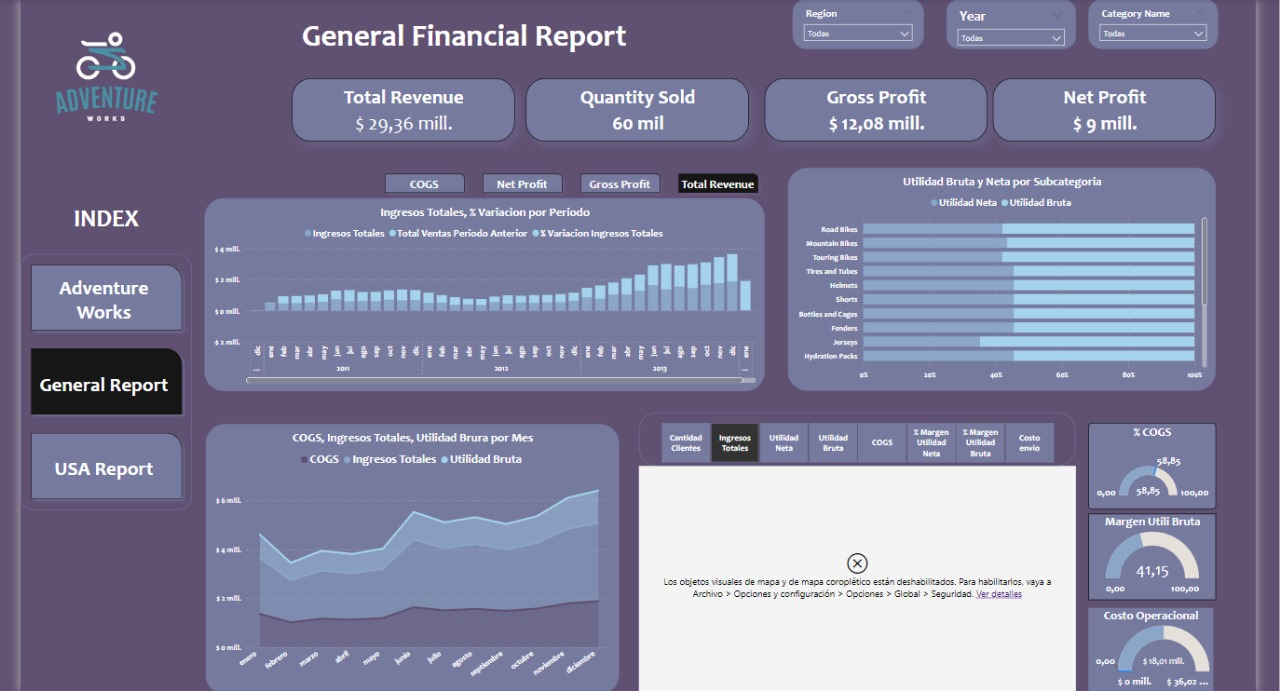

The page's visual inventory and layout, read from the dashboard file:
{"tool":"powerbi","page":{"name":"General Report","canvas":[1920,1080],"ordinal":1},"visuals":[{"type":"card","title":"Total Revenue","fields":{"Values":["*Medidas.Ingresos Totales"]},"box":[421.9,123.8,346.1,98.5],"z":0},{"type":"card","title":"Quantity Sold","fields":{"Values":["*Medidas.Cantidad Vendida"]},"box":[785.7,123.8,346.1,98.5],"z":1000},{"type":"card","title":"Gross Profit","fields":{"Values":["*Medidas.Utilidad Bruta"]},"box":[1157.1,123.8,346.1,98.5],"z":2000},{"type":"card","title":"Net Profit","fields":{"Values":["*Medidas.Utilidad Neta"]},"box":[1510.7,123.8,346.1,98.5],"z":3000},{"type":"pageNavigator","box":[0,395.4,265.7,397.6],"z":4000},{"type":"hundredPercentStackedBarChart","title":"Utilidad Bruta y Neta por Subcategoria","fields":{"Category":["DimProduct.EnglishProductSubcategoryName","DimProduct.EnglishProductCategoryName"],"Y":["*Medidas.Utilidad Neta","*Medidas.Utilidad Bruta"]},"box":[1192.4,262.7,664.4,346.1],"z":8000},{"type":"stackedAreaChart","title":"COGS, Ingresos Totales, Utilidad Brura por Mes","fields":{"Y":["*Medidas.COGS","*Medidas.Ingresos Totales","*Medidas.Utilidad Bruta"],"Category":["FactInternetSales.DueDate.Variación.Jerarquía de fechas.Mes"]},"box":[288,660,642,420],"z":9000},{"type":"map","title":"Cantidad Clientes por Pais","fields":{"Size":["*Medidas.Ingresos Totales"],"Category":["DimCustomer.CountryRegionCode"]},"box":[961.2,725.9,678.8,354.3],"z":10000},{"type":"gauge","title":"    %   COGS","fields":{"Y":["*Medidas.% COGS"]},"box":[1660,658,198,134],"z":11000},{"type":"gauge","title":"Margen Utili Bruta","fields":{"Y":["*Medidas.% Margen Utilidad Bruta"]},"box":[1660,800,198,134],"z":12000},{"type":"gauge","fields":{"Y":["*Medidas.Costo Operacional"]},"box":[1660.3,946.1,194.8,132.9],"z":13000},{"type":"slicer","fields":{"Values":["DimDate.CalendarYear"]},"box":[1438.7,0,201.7,78],"z":14000},{"type":"textbox","box":[421.9,22.6,539.2,101.5],"z":15000},{"type":"image","box":[0,0,265.7,246.6],"z":16000},{"type":"slicer","fields":{"Values":["DimSalesTerritory.SalesTerritoryRegion"]},"box":[1199.3,0,204.4,78],"z":17000},{"type":"slicer","fields":{"Values":["DimProduct.EnglishProductCategoryName"]},"box":[1659.2,0,201.7,78],"z":18000},{"type":"textbox","box":[0,312.5,265.7,61.7],"z":19000},{"type":"columnChart","title":"Ingresos Totales, % Variacion por Periodo","fields":{"Category":["DimDate.CalendarYear","DimDate.ShortMonth"],"Y":["*Medidas.Ingresos Totales","*Medidas.Total Ventas Periodo Anterior","*Medidas.% Variacion Ingresos Totales"]},"box":[286.7,310,870,300],"z":20000},{"type":"bookmarkNavigator","box":[558,262,600,48],"z":24000},{"type":"slicer","fields":{"Values":["Parámetro de Campos.Parámetro de Campos"]},"box":[960.9,642,678.2,82.9],"z":25000}]}

Visuals, with their boxes on the page's 1920x1080 design canvas (x1, y1, x2, y2). These are canvas units, not pixel positions in the 1280x691 screenshot, which may show the page scaled, cropped or inside an application window:
"Total Revenue" card: box=[422, 124, 768, 222]
"Quantity Sold" card: box=[786, 124, 1132, 222]
"Gross Profit" card: box=[1157, 124, 1503, 222]
"Net Profit" card: box=[1511, 124, 1857, 222]
pageNavigator: box=[0, 395, 266, 793]
"Utilidad Bruta y Neta por Subcategoria" hundredPercentStackedBarChart: box=[1192, 263, 1857, 609]
"COGS, Ingresos Totales, Utilidad Brura por Mes" stackedAreaChart: box=[288, 660, 930, 1080]
"Cantidad Clientes por Pais" map: box=[961, 726, 1640, 1080]
"    %   COGS" gauge: box=[1660, 658, 1858, 792]
"Margen Utili Bruta" gauge: box=[1660, 800, 1858, 934]
gauge - *Medidas.Costo Operacional: box=[1660, 946, 1855, 1079]
slicer - DimDate.CalendarYear: box=[1439, 0, 1640, 78]
textbox: box=[422, 23, 961, 124]
image: box=[0, 0, 266, 247]
slicer - DimSalesTerritory.SalesTerritoryRegion: box=[1199, 0, 1404, 78]
slicer - DimProduct.EnglishProductCategoryName: box=[1659, 0, 1861, 78]
textbox: box=[0, 312, 266, 374]
"Ingresos Totales, % Variacion por Periodo" columnChart: box=[287, 310, 1157, 610]
bookmarkNavigator: box=[558, 262, 1158, 310]
slicer - Parámetro de Campos.Parámetro de Campos: box=[961, 642, 1639, 725]
